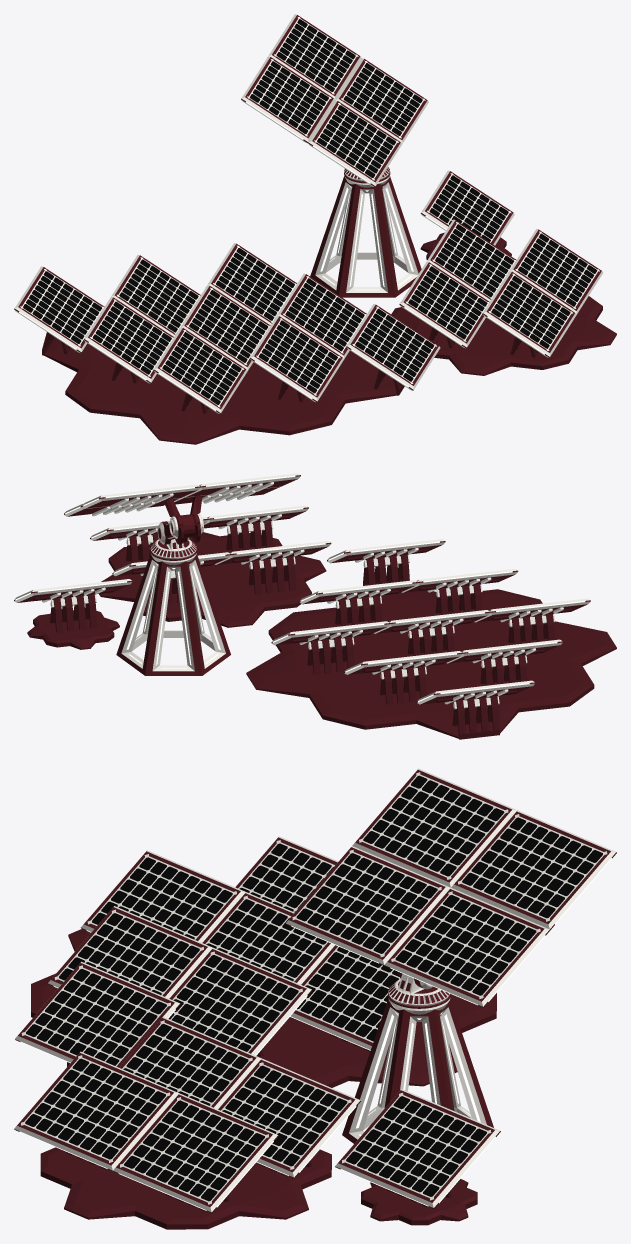
File: solarNew.gltf
3 views of the same model, one above another, from view 1: azimuth 30°, elevation 25°; view 2: azimuth 150°, elevation 25°; view 3: azimuth 270°, elevation 25° (orthographic). The views are drawn at different scales.
Parts seen in each view (by area): view 1: SolarPanelBigComplex_Foundation, SolarPanelTowerComplex_Foundation, SolarPanelComplex_Foundation, SolarPanel_Panel007, SolarPanel_Panel011, SolarPanel_Panel001, SolarPanel_Panel015, SolarPanel_Panel017, SolarPanel_Panel002, SolarPanel_Panel005, SolarPanel_Panel012, SolarPanel_Panel014 (+9 smaller); view 2: SolarPanelBigComplex_Foundation, SolarPanelTowerComplex_Foundation, SolarPanelComplex_Foundation, SolarPanel_Foundation, SolarPanel_Body008, SolarPanel_Body001, SolarPanel_Body, SolarPanel_Body006, SolarPanel_Body009, SolarPanel_Body011, SolarPanel_Body013, SolarPanel_Panel004 (+27 smaller); view 3: SolarPanelComplex_Foundation, SolarPanel_Panel003, SolarPanel_Panel, SolarPanel_Panel008, SolarPanel_Panel004, SolarPanel_Panel007, SolarPanel_Panel002, SolarPanel_Panel001, SolarPanelTowerComplex_Foundation, SolarPanel_Panel015, SolarPanel_Panel016, SolarPanel_Panel006 (+9 smaller).
Boxes of the visible parts, x1=… form: SolarPanelBigComplex_Foundation: x1=44, y1=337, x2=396, y2=444; SolarPanelTowerComplex_Foundation: x1=310, y1=172, x2=421, y2=297; SolarPanelComplex_Foundation: x1=391, y1=296, x2=616, y2=375; SolarPanel_Panel007: x1=482, y1=271, x2=576, y2=357; SolarPanel_Panel011: x1=153, y1=327, x2=247, y2=413; SolarPanel_Panel001: x1=241, y1=56, x2=334, y2=143; SolarPanel_Panel015: x1=346, y1=304, x2=440, y2=390; SolarPanel_Panel017: x1=250, y1=315, x2=343, y2=402; SolarPanel_Panel002: x1=308, y1=100, x2=402, y2=186; SolarPanel_Panel005: x1=399, y1=261, x2=489, y2=348; SolarPanel_Panel012: x1=14, y1=266, x2=104, y2=352; SolarPanel_Panel014: x1=84, y1=297, x2=173, y2=383; SolarPanelBigComplex_Foundation: x1=246, y1=589, x2=616, y2=738; SolarPanelTowerComplex_Foundation: x1=116, y1=549, x2=230, y2=675; SolarPanelComplex_Foundation: x1=99, y1=532, x2=326, y2=627; SolarPanel_Foundation: x1=27, y1=609, x2=119, y2=649; SolarPanel_Body008: x1=435, y1=690, x2=517, y2=739; SolarPanel_Body001: x1=231, y1=551, x2=313, y2=594; SolarPanel_Body: x1=33, y1=589, x2=114, y2=632; SolarPanel_Body006: x1=290, y1=631, x2=371, y2=674; SolarPanel_Body009: x1=363, y1=661, x2=444, y2=704; SolarPanel_Body011: x1=346, y1=549, x2=427, y2=585; SolarPanel_Body013: x1=418, y1=579, x2=499, y2=614; SolarPanel_Panel004: x1=82, y1=484, x2=200, y2=508; SolarPanelComplex_Foundation: x1=40, y1=1147, x2=331, y2=1229; SolarPanel_Panel003: x1=384, y1=888, x2=550, y2=1007; SolarPanel_Panel: x1=335, y1=1089, x2=500, y2=1208; SolarPanel_Panel008: x1=113, y1=1093, x2=278, y2=1213; SolarPanel_Panel004: x1=451, y1=810, x2=616, y2=929; SolarPanel_Panel007: x1=14, y1=1051, x2=179, y2=1171; SolarPanel_Panel002: x1=285, y1=846, x2=450, y2=965; SolarPanel_Panel001: x1=352, y1=768, x2=517, y2=887; SolarPanelTowerComplex_Foundation: x1=342, y1=993, x2=493, y2=1143; SolarPanel_Panel015: x1=15, y1=961, x2=180, y2=1067; SolarPanel_Panel016: x1=168, y1=947, x2=312, y2=1055; SolarPanel_Panel006: x1=218, y1=1058, x2=360, y2=1178.
Size of the model in its own units: 36.36 by 14.14 by 27.17.
Materials: 1 (1 with a texture image).
